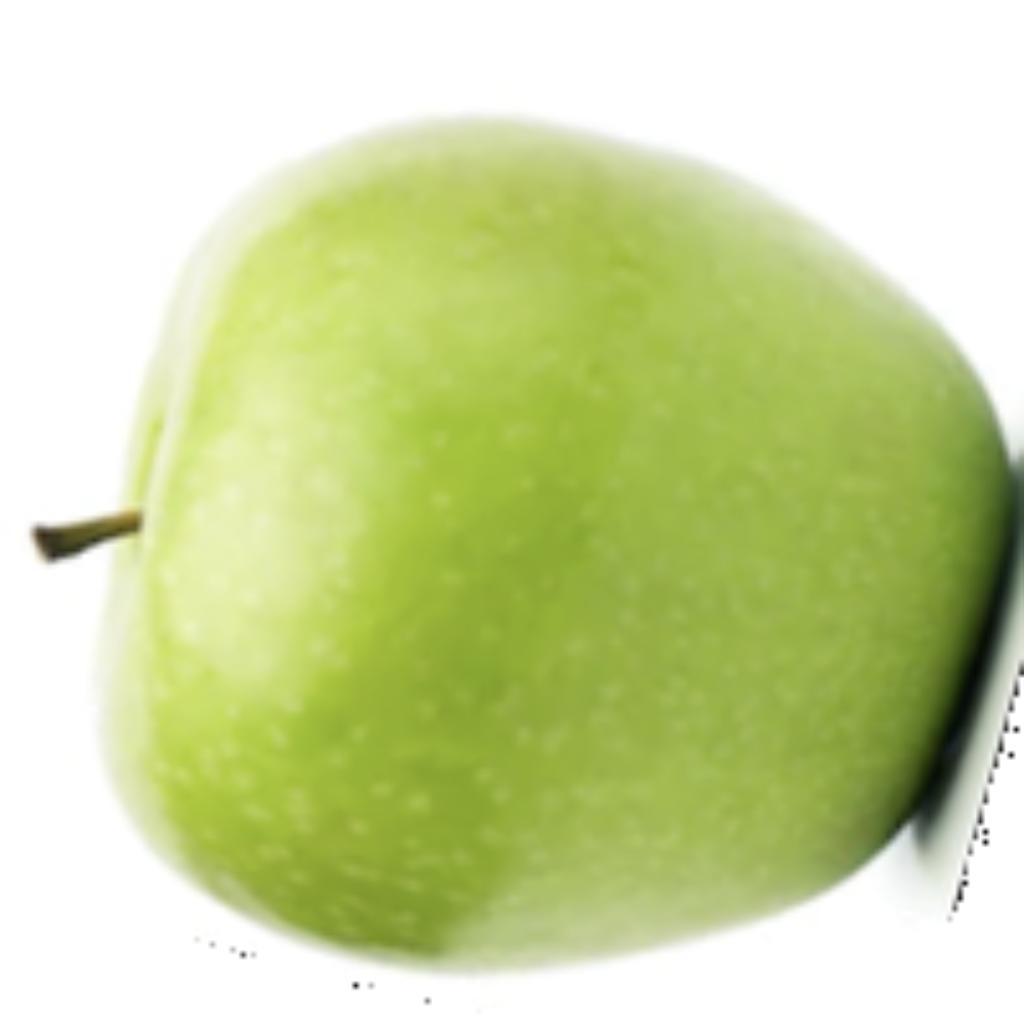apple: (20, 102, 1019, 988)
